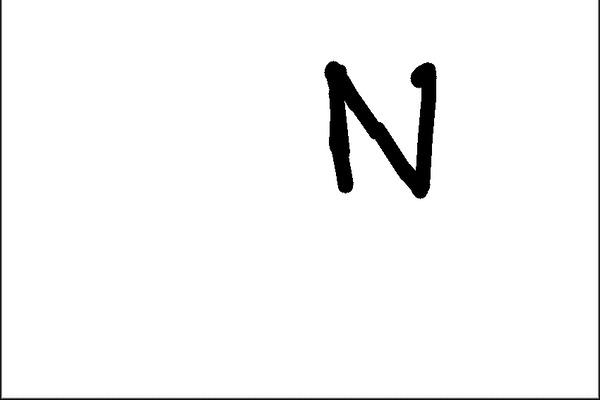N: (317, 51, 444, 204)
